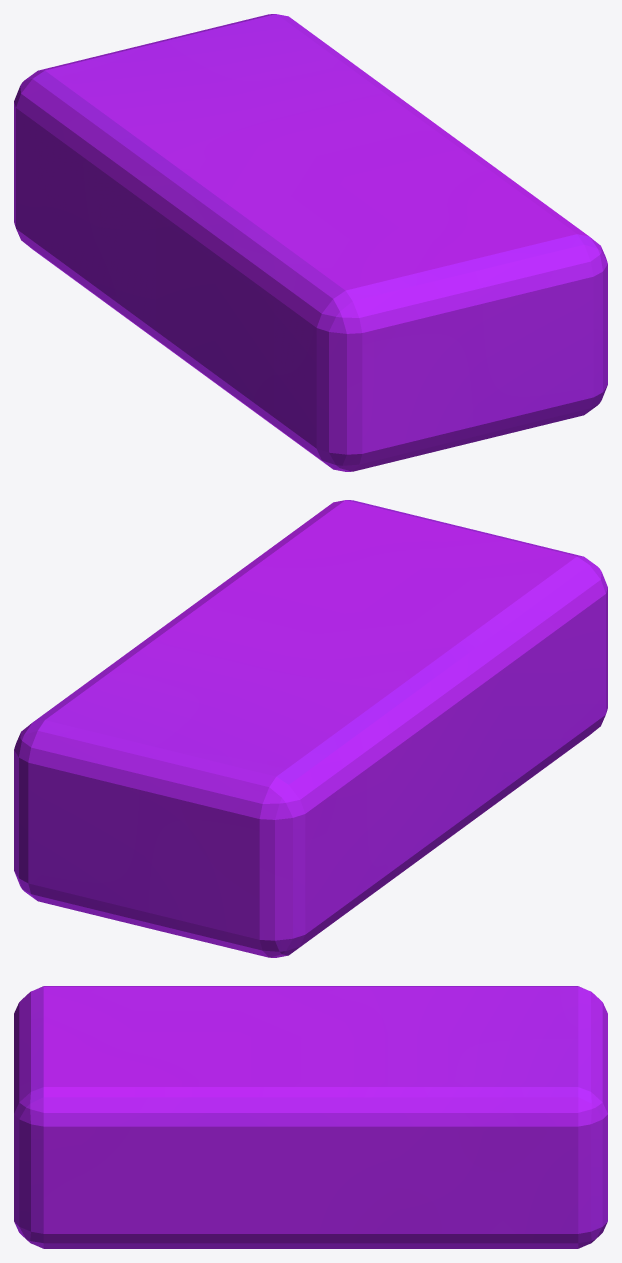
File: ShortBlockPink.fbx
3 views of the same model, one above another, from view 1: azimuth 30°, elevation 25°; view 2: azimuth 150°, elevation 25°; view 3: azimuth 270°, elevation 25° (orthographic). The views are drawn at different scales.
Visible parts, largest first — view 1: ShortBlock; view 2: ShortBlock; view 3: ShortBlock.
Part boxes in pixels (<box>): ShortBlock: <box>14,14,607,471</box>; ShortBlock: <box>14,500,607,957</box>; ShortBlock: <box>14,986,607,1248</box>.
Size of the model in its own units: 2 by 1.2 by 4.
